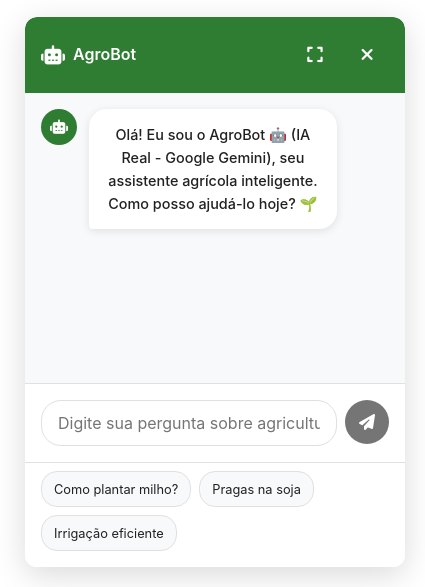
Chatbot › enables send button when input has text
Type "teste" into the field with placeholder "Digite sua pergunta sobre agricultura..." at [189, 423], box [41,400,337,446]
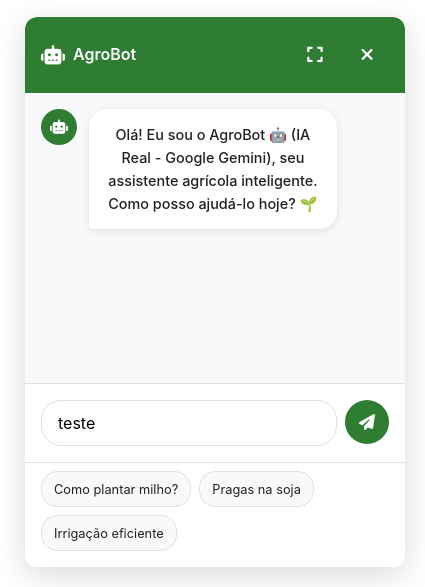
Check: the button named "enviar mensagem" is enabled, box [345,400,389,444]
